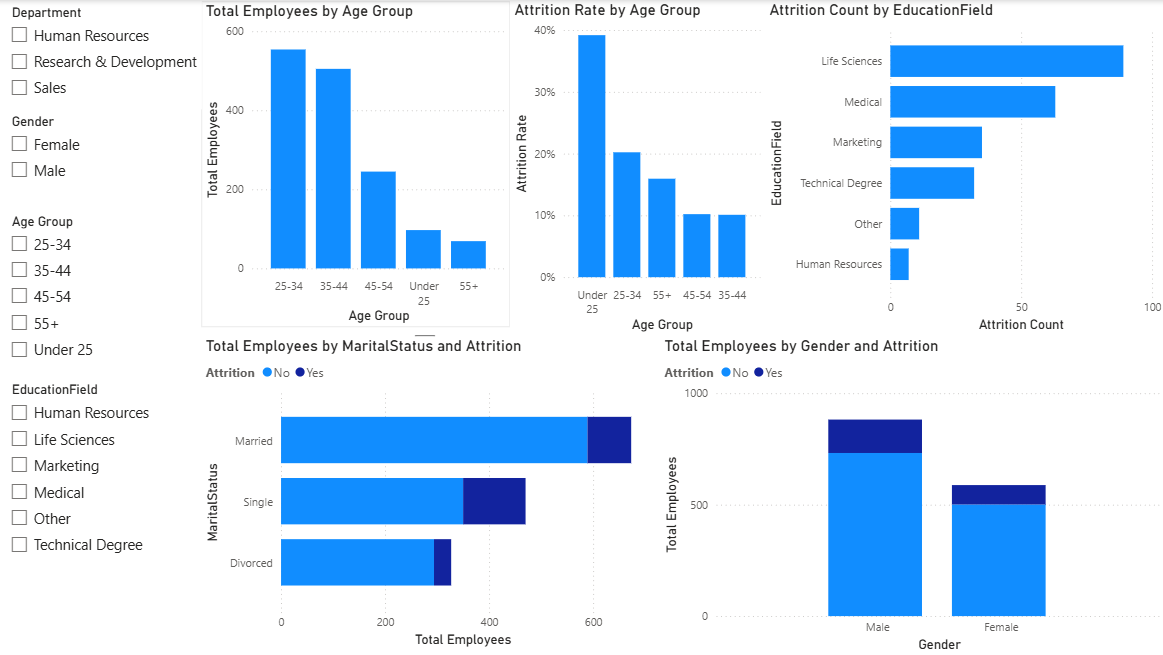

Layout of this report page (visuals, bound fields, positions):
{"tool":"powerbi","page":{"name":"Employee Demographics","canvas":[1280,720],"ordinal":1},"visuals":[{"type":"clusteredColumnChart","fields":{"Category":["Employees.Age Group"],"Y":["Employees.Total Employees"]},"box":[221.3,1.2,338.7,358.3],"z":0},{"type":"clusteredColumnChart","fields":{"Category":["Employees.Age Group"],"Y":["Employees.Attrition Rate"]},"box":[560.1,0,280,369.3],"z":1000},{"type":"columnChart","fields":{"Category":["Employees.Gender"],"Y":["Employees.Total Employees"],"Series":["Employees.Attrition"]},"box":[723.9,369.3,556.4,351],"z":2000},{"type":"barChart","fields":{"Category":["Employees.MaritalStatus"],"Y":["Employees.Total Employees"],"Series":["Employees.Attrition"]},"box":[221.3,369.3,502.6,346.1],"z":3000},{"type":"clusteredBarChart","fields":{"Category":["Employees.EducationField"],"Y":["Employees.Attrition Count"]},"box":[840.1,0,440.2,369.3],"z":4000},{"type":"slicer","fields":{"Values":["Employees.Department"]},"box":[0,0,221.3,119.8],"z":5000},{"type":"slicer","fields":{"Values":["Employees.Gender"]},"box":[0,119.8,111.3,108.8],"z":6000},{"type":"slicer","fields":{"Values":["Employees.Age Group"]},"box":[0,228.7,111.3,185.9],"z":7000},{"type":"slicer","fields":{"Values":["Employees.EducationField"]},"box":[0,414.5,181,216.4],"z":8000}]}

Visuals, with their boxes in screenshot pixels (x1, y1, x2, y2), scaled from the page's 1280x720 canvas onto the 1163x655 screenshot:
clusteredColumnChart - Employees.Age Group x Employees.Total Employees: (201, 1, 509, 327)
clusteredColumnChart - Employees.Age Group x Employees.Attrition Rate: (509, 0, 763, 336)
columnChart - Employees.Gender x Employees.Total Employees: (658, 336, 1162, 654)
barChart - Employees.MaritalStatus x Employees.Total Employees: (201, 336, 658, 651)
clusteredBarChart - Employees.EducationField x Employees.Attrition Count: (763, 0, 1162, 336)
slicer - Employees.Department: (0, 0, 201, 109)
slicer - Employees.Gender: (0, 109, 101, 208)
slicer - Employees.Age Group: (0, 208, 101, 377)
slicer - Employees.EducationField: (0, 377, 164, 574)
